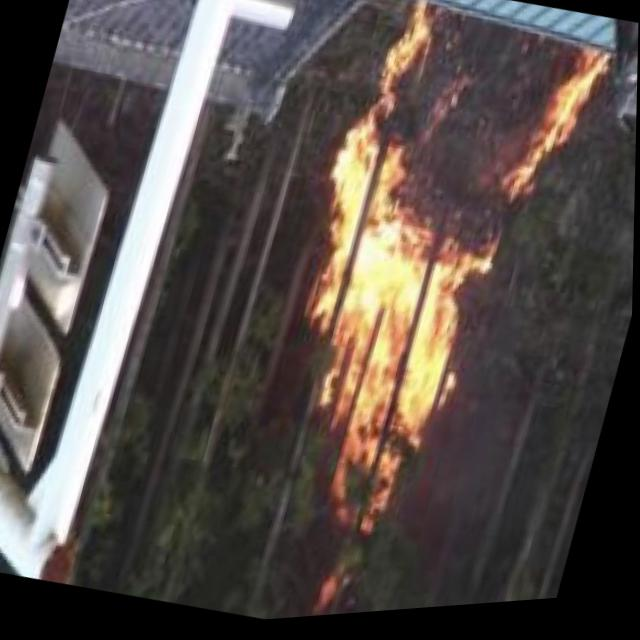Fire: (249, 0, 608, 563)
